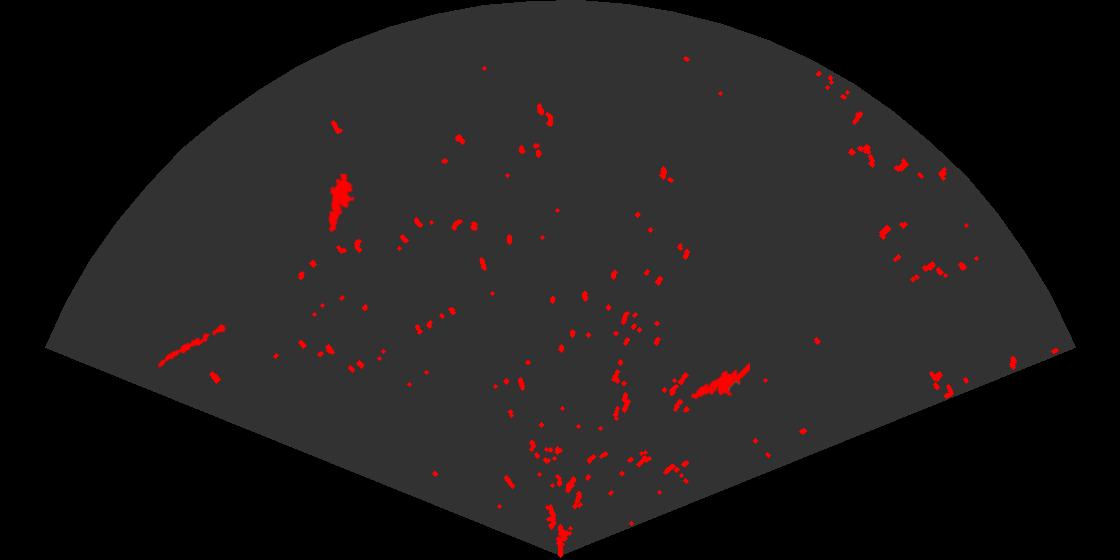chain: (156, 322, 229, 369)
frogman: (689, 361, 750, 401), (327, 174, 357, 234)
